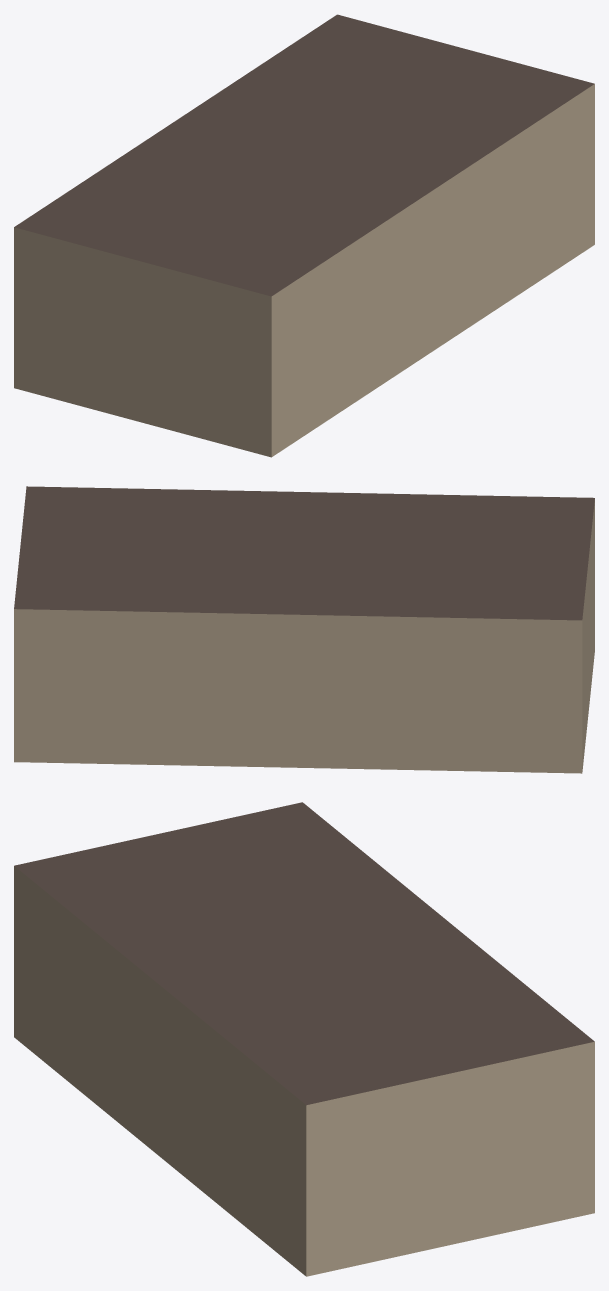
3 renders of one model, top to bottom at view 1: azimuth 30°, elevation 25°; view 2: azimuth 150°, elevation 25°; view 3: azimuth 270°, elevation 25°, orthographic. The views are drawn at different scales.
Visible parts, largest first — view 1: HP-w1287260189; view 2: HP-w1287260189; view 3: HP-w1287260189.
Part boxes in pixels (x1=…): HP-w1287260189: x1=14, y1=14, x2=594, y2=457; HP-w1287260189: x1=14, y1=486, x2=594, y2=773; HP-w1287260189: x1=14, y1=802, x2=594, y2=1276.
Bounding box in the file's own units: 34.1 × 9 × 27.63.
